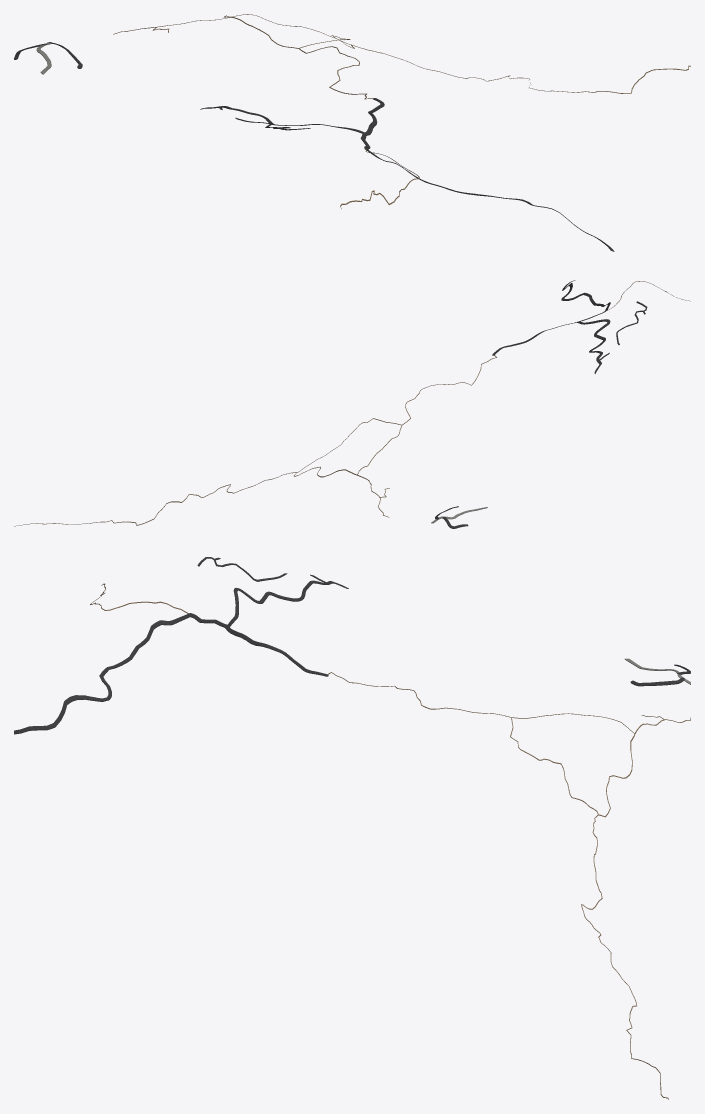
3 views of the same model, one above another, from view 1: azimuth 30°, elevation 25°; view 2: azimuth 150°, elevation 25°; view 3: azimuth 270°, elevation 25° (orthographic). The views are drawn at different scales.
Bounding box in the file's own units: 1174 × 489 × 1166.
